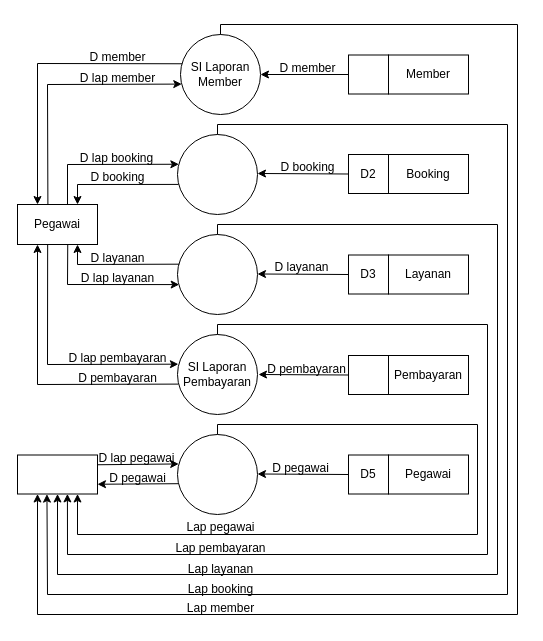
Some shapes in this 543 by 641 pixel diagram are drawn without their labels. Each missing label, with the centre of its shape:
D1: point (368, 74)
D4: point (368, 374)
Pemilik: point (57, 474)
SI Laporan Booking: point (217, 174)
SI Laporan Layanan: point (217, 274)
SI Laporan Pegawai: point (217, 474)
